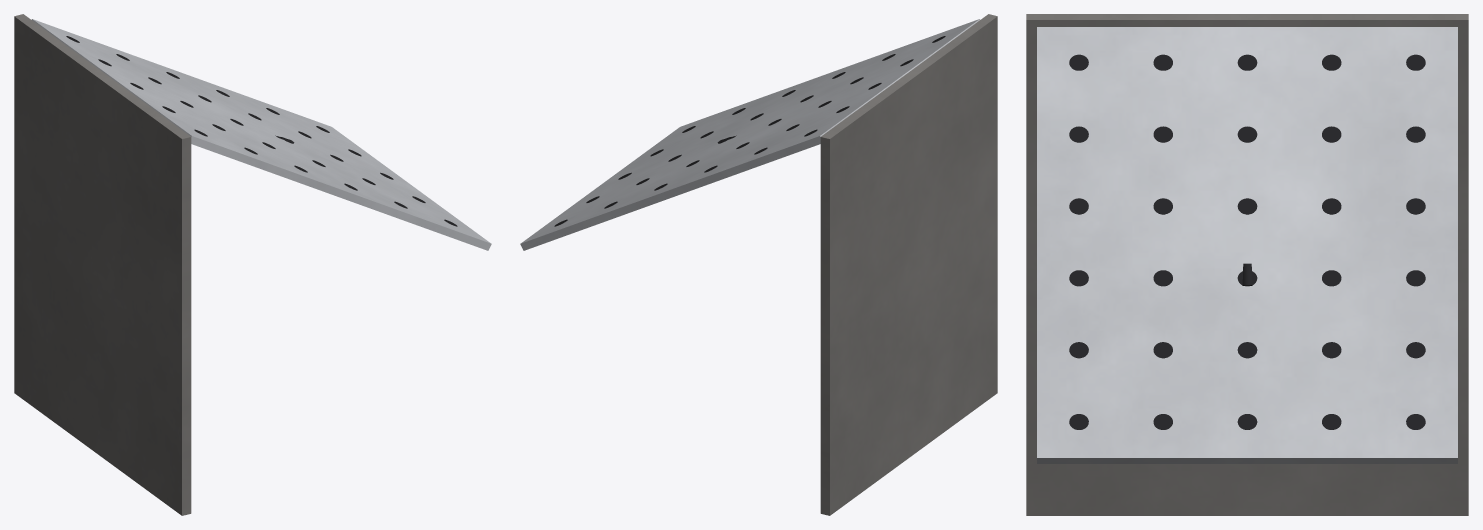
Rendered from aero07_airbrake_m_deployed.glb.
3 views of the same model, side by side, from view 1: azimuth 30°, elevation 25°; view 2: azimuth 150°, elevation 25°; view 3: azimuth 270°, elevation 25° (orthographic). The views are drawn at different scales.
Visible parts, largest first — view 1: base_frame, panel_brake, panel_perforations; view 2: base_frame, panel_brake, panel_perforations; view 3: panel_brake, base_frame, panel_perforations.
Boxes of the visible parts, <box> form: base_frame: <box>14,14,191,515</box>; panel_brake: <box>31,19,491,250</box>; panel_perforations: <box>66,36,457,226</box>; base_frame: <box>820,14,997,515</box>; panel_brake: <box>520,19,980,250</box>; panel_perforations: <box>554,36,945,226</box>; panel_brake: <box>1037,27,1457,463</box>; base_frame: <box>1026,14,1468,515</box>; panel_perforations: <box>1069,54,1425,429</box>.
Size of the model in its own units: 1.36 by 1.56 by 1.26.
Materials: 3 (2 with a texture image).
